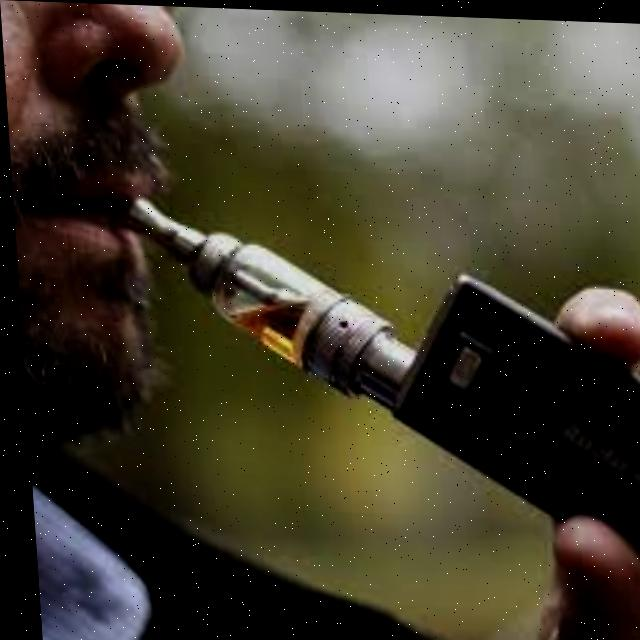vape: (116, 191, 640, 591)
